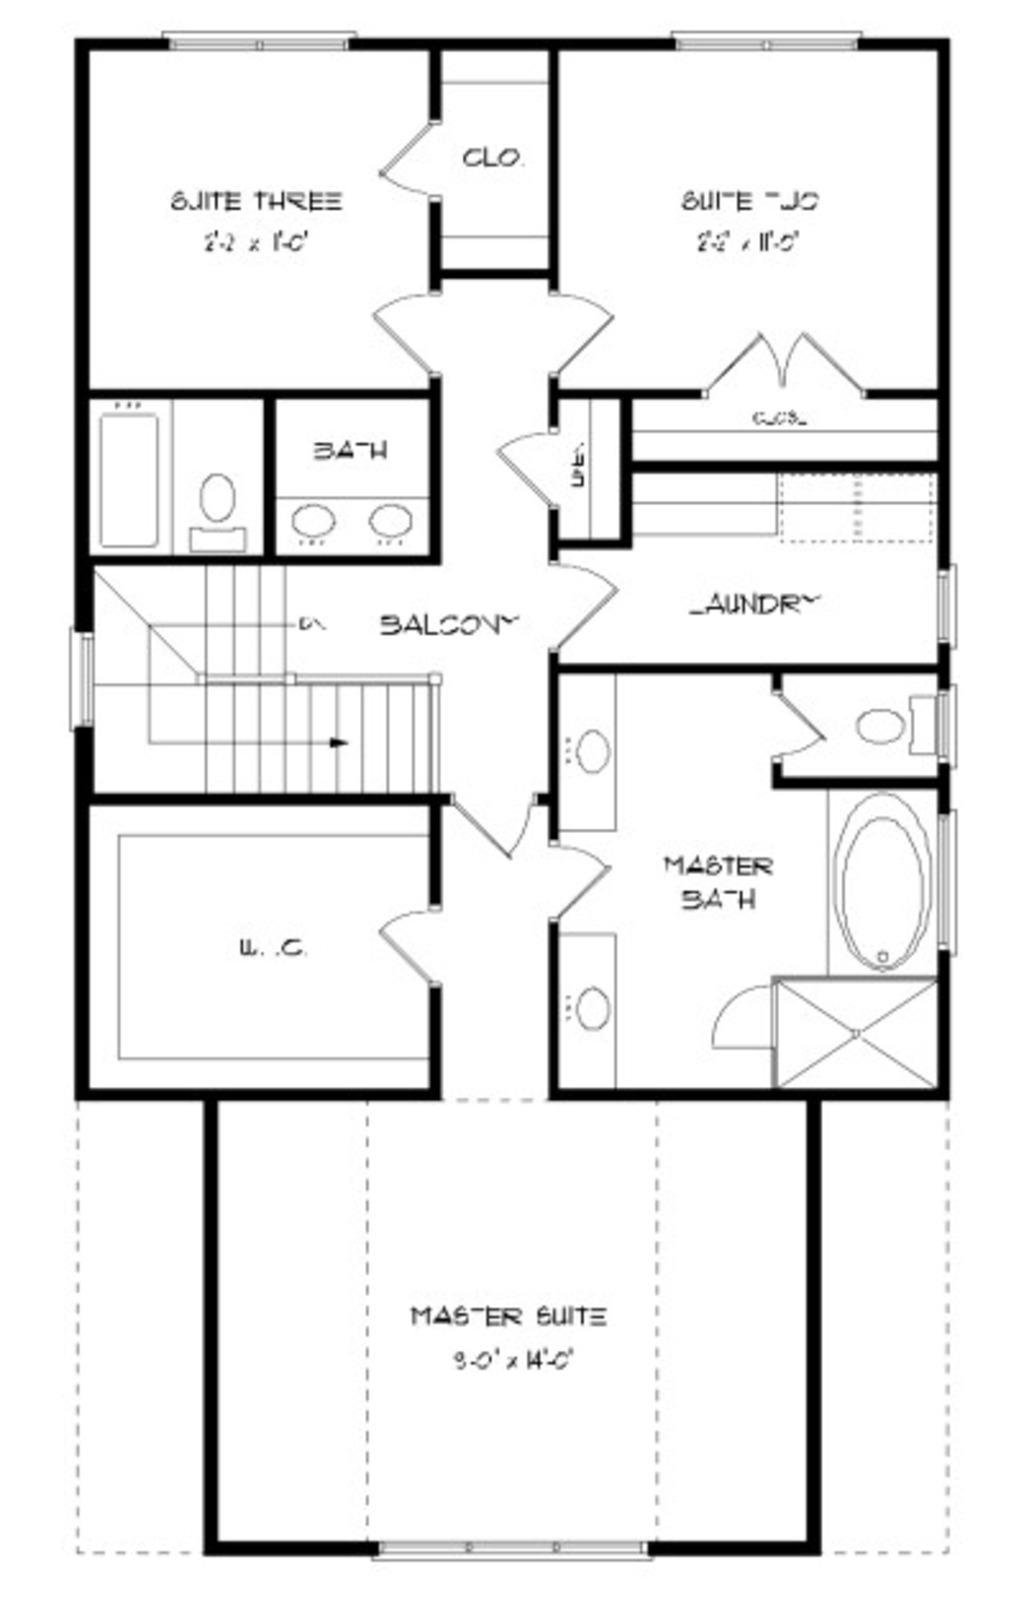door: (688, 329, 874, 406), (439, 784, 553, 864), (371, 281, 448, 386), (548, 559, 626, 659), (371, 119, 453, 215), (493, 426, 571, 521), (693, 981, 781, 1057), (550, 276, 616, 379), (383, 901, 456, 991), (543, 841, 611, 926), (763, 685, 828, 769)
large_sink: (853, 686, 972, 764), (178, 466, 248, 559)
small_sink: (548, 926, 618, 1092), (546, 676, 618, 826), (283, 494, 439, 556)
stairs: (93, 564, 467, 799)
tub: (78, 390, 173, 561)
window: (133, 21, 366, 54), (666, 19, 863, 54), (52, 626, 106, 729), (933, 814, 961, 964), (940, 556, 958, 657)
